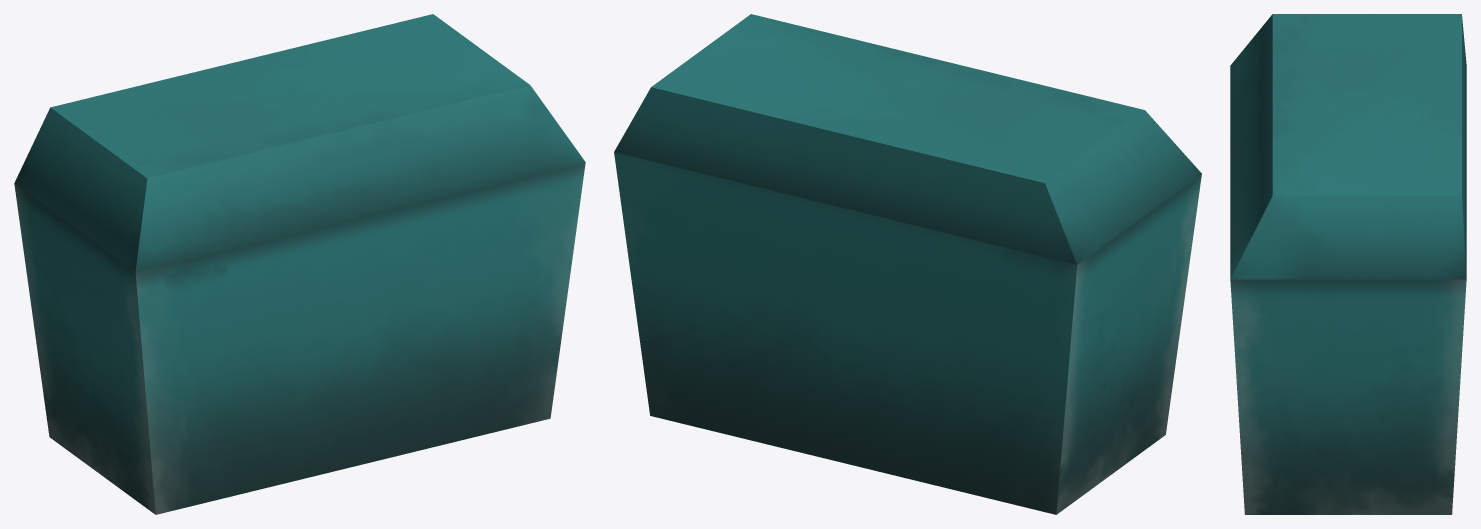
Rendered from BgMD_GarbageeCan_01_01.fbx.
3 renders of one model, left to right at view 1: azimuth 30°, elevation 25°; view 2: azimuth 150°, elevation 25°; view 3: azimuth 270°, elevation 25°, orthographic. The views are drawn at different scales.
Parts seen in each view (by area): view 1: pasted__pCube42; view 2: pasted__pCube42; view 3: pasted__pCube42.
Boxes of the visible parts, left/top/right/bottom form: pasted__pCube42: left=14, top=14, right=585, bottom=514; pasted__pCube42: left=614, top=14, right=1201, bottom=514; pasted__pCube42: left=1230, top=14, right=1466, bottom=514.
Bounding box in the file's own units: 190 × 131 × 88.56.
1 material, 1 textured.
